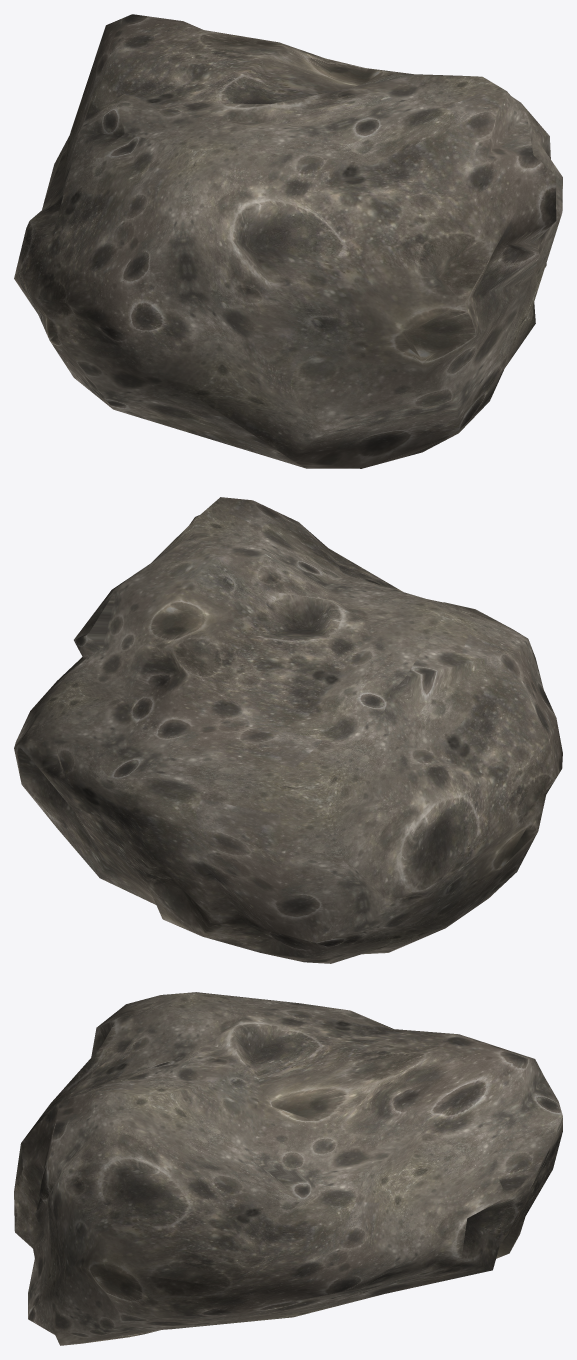
Rendered from Asteroid_02_L2.FBX.
3 renders of one model, top to bottom at view 1: azimuth 30°, elevation 25°; view 2: azimuth 150°, elevation 25°; view 3: azimuth 270°, elevation 25°, orthographic. The views are drawn at different scales.
Parts seen in each view (by area): view 1: Asteroid; view 2: Asteroid; view 3: Asteroid.
Boxes of the visible parts, x1,y1,x2,y2 form: Asteroid: (14,14,562,468); Asteroid: (14,497,562,963); Asteroid: (14,992,562,1345).
Bounding box in the file's own units: 2.91 × 2.01 × 3.16.
